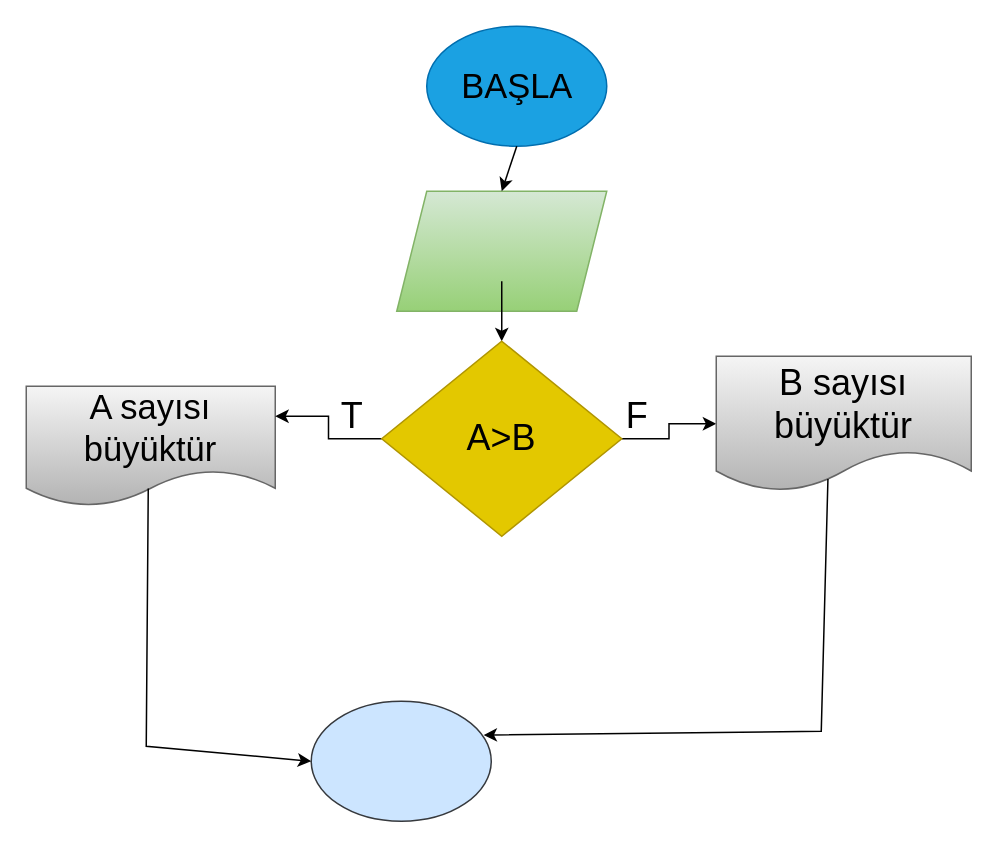
Some shapes in this 998 by 848 pixel diagram are drawn without their labels. The centre of each missing label's shape, as x and y in pixels:
A,B: (501,250)
BİTİR: (400,760)
